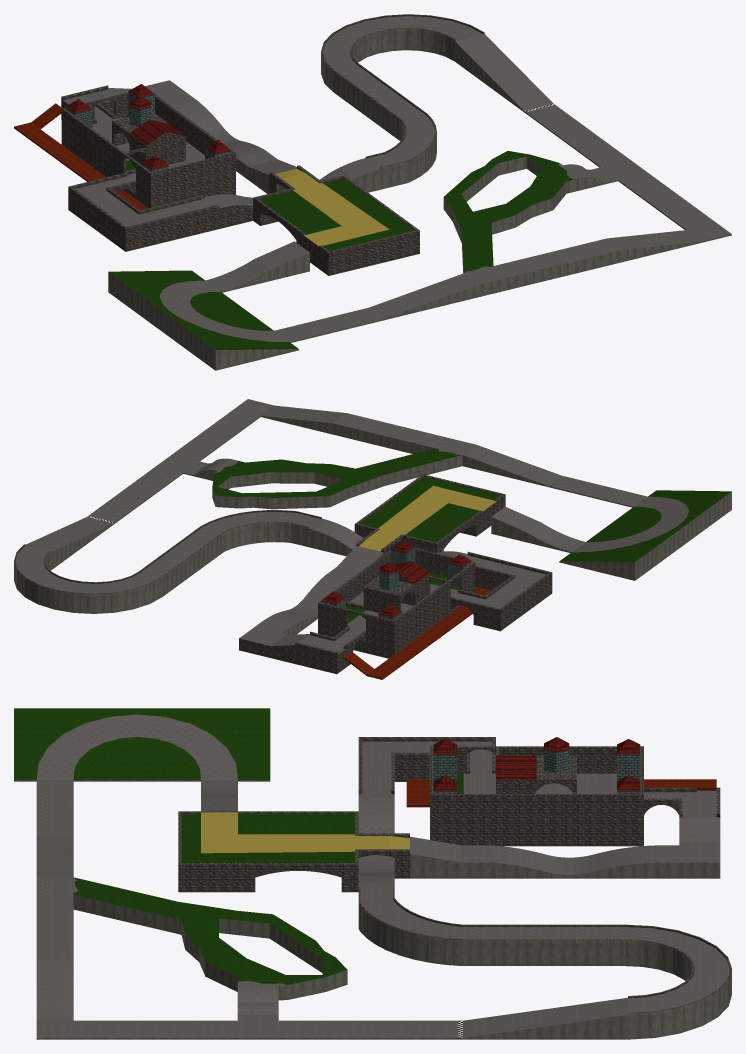
The picture shows the model from 3 angles, top to bottom: view 1: azimuth 30°, elevation 25°; view 2: azimuth 150°, elevation 25°; view 3: azimuth 270°, elevation 25°; orthographic projection. The views are drawn at different scales.
Visible parts, largest first — view 1: Castle_Island_2k17_Main-road, Castle_Island_2k17_Main-castlewall, Castle_Island_2k17_Main-paroi, Castle_Island_2k17_Main-grassoffroad, Castle_Island_2k17_Main-sandroad, Castle_Island_2k17_Main-woodroad, Castle_Island_2k17_Main-roof, Castle_Island_2k17_Main-walltower; view 2: Castle_Island_2k17_Main-road, Castle_Island_2k17_Main-paroi, Castle_Island_2k17_Main-castlewall, Castle_Island_2k17_Main-grassoffroad, Castle_Island_2k17_Main-sandroad, Castle_Island_2k17_Main-woodroad, Castle_Island_2k17_Main-roof, Castle_Island_2k17_Main-walltower; view 3: Castle_Island_2k17_Main-road, Castle_Island_2k17_Main-castlewall, Castle_Island_2k17_Main-grassoffroad, Castle_Island_2k17_Main-paroi, Castle_Island_2k17_Main-sandroad, Castle_Island_2k17_Main-roof, Castle_Island_2k17_Main-walltower, Castle_Island_2k17_Main-woodroad.
Part boxes in pixels (x1,y1,x2,y2): Castle_Island_2k17_Main-road: [63, 16, 731, 341]; Castle_Island_2k17_Main-castlewall: [61, 14, 484, 275]; Castle_Island_2k17_Main-paroi: [108, 28, 731, 370]; Castle_Island_2k17_Main-grassoffroad: [108, 116, 573, 350]; Castle_Island_2k17_Main-sandroad: [275, 168, 389, 246]; Castle_Island_2k17_Main-woodroad: [14, 103, 147, 210]; Castle_Island_2k17_Main-roof: [66, 84, 231, 169]; Castle_Island_2k17_Main-walltower: [65, 91, 231, 172]; Castle_Island_2k17_Main-road: [15, 399, 689, 654]; Castle_Island_2k17_Main-paroi: [14, 416, 731, 634]; Castle_Island_2k17_Main-castlewall: [14, 474, 552, 674]; Castle_Island_2k17_Main-grassoffroad: [212, 448, 731, 623]; Castle_Island_2k17_Main-sandroad: [359, 485, 496, 551]; Castle_Island_2k17_Main-woodroad: [344, 586, 491, 679]; Castle_Island_2k17_Main-roof: [322, 540, 471, 617]; Castle_Island_2k17_Main-walltower: [321, 547, 471, 620]; Castle_Island_2k17_Main-road: [36, 714, 729, 1037]; Castle_Island_2k17_Main-castlewall: [178, 737, 731, 1013]; Castle_Island_2k17_Main-grassoffroad: [14, 708, 463, 984]; Castle_Island_2k17_Main-paroi: [14, 780, 731, 1039]; Castle_Island_2k17_Main-sandroad: [201, 812, 409, 853]; Castle_Island_2k17_Main-roof: [433, 737, 640, 790]; Castle_Island_2k17_Main-walltower: [433, 749, 640, 793]; Castle_Island_2k17_Main-woodroad: [406, 779, 716, 807].
Bounding box in the file's own units: 61802 × 7960 × 61138.
Materials: 9 (9 with a texture image).
